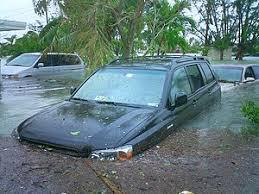water: (1, 79, 85, 136), (175, 82, 258, 130)
